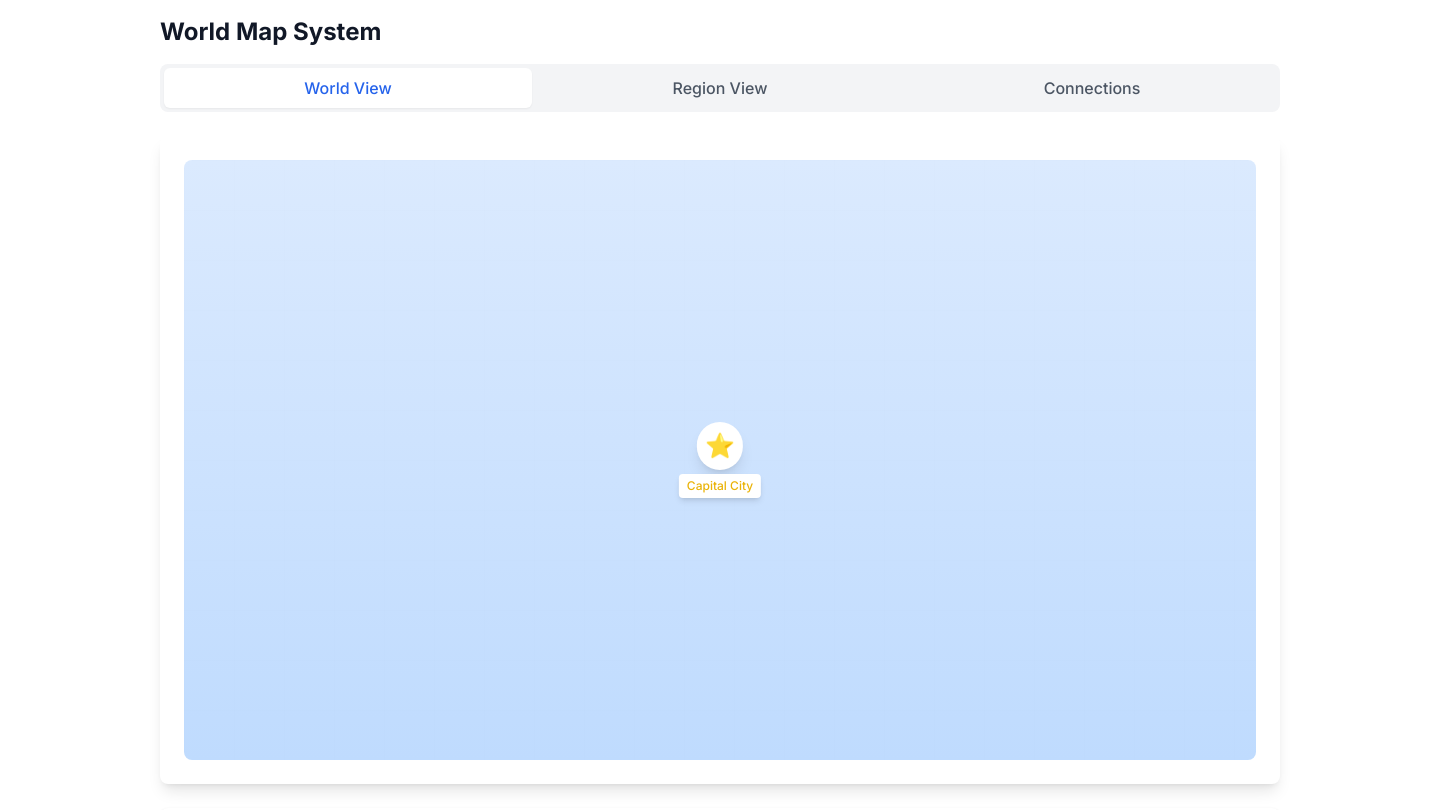
WorldMapDisplay › Region View › should switch between regions without error
Region Viewタブをクリック
Click the text "Region View" at (720, 88), box [673,78,767,98]
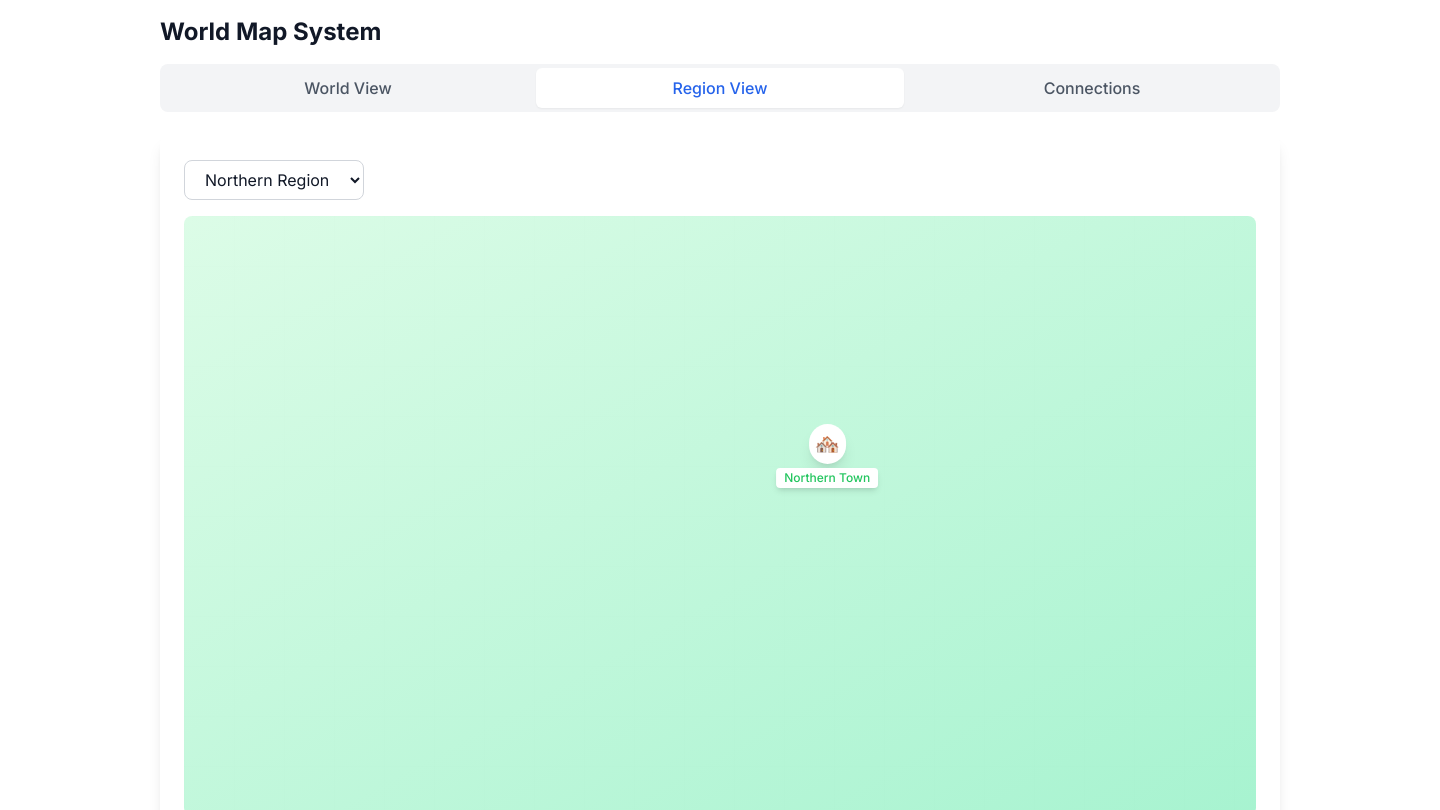
2番目のリージョンに切り替え
Select "Southern Region" in the dropdown at (274, 180), box [184,160,364,200]
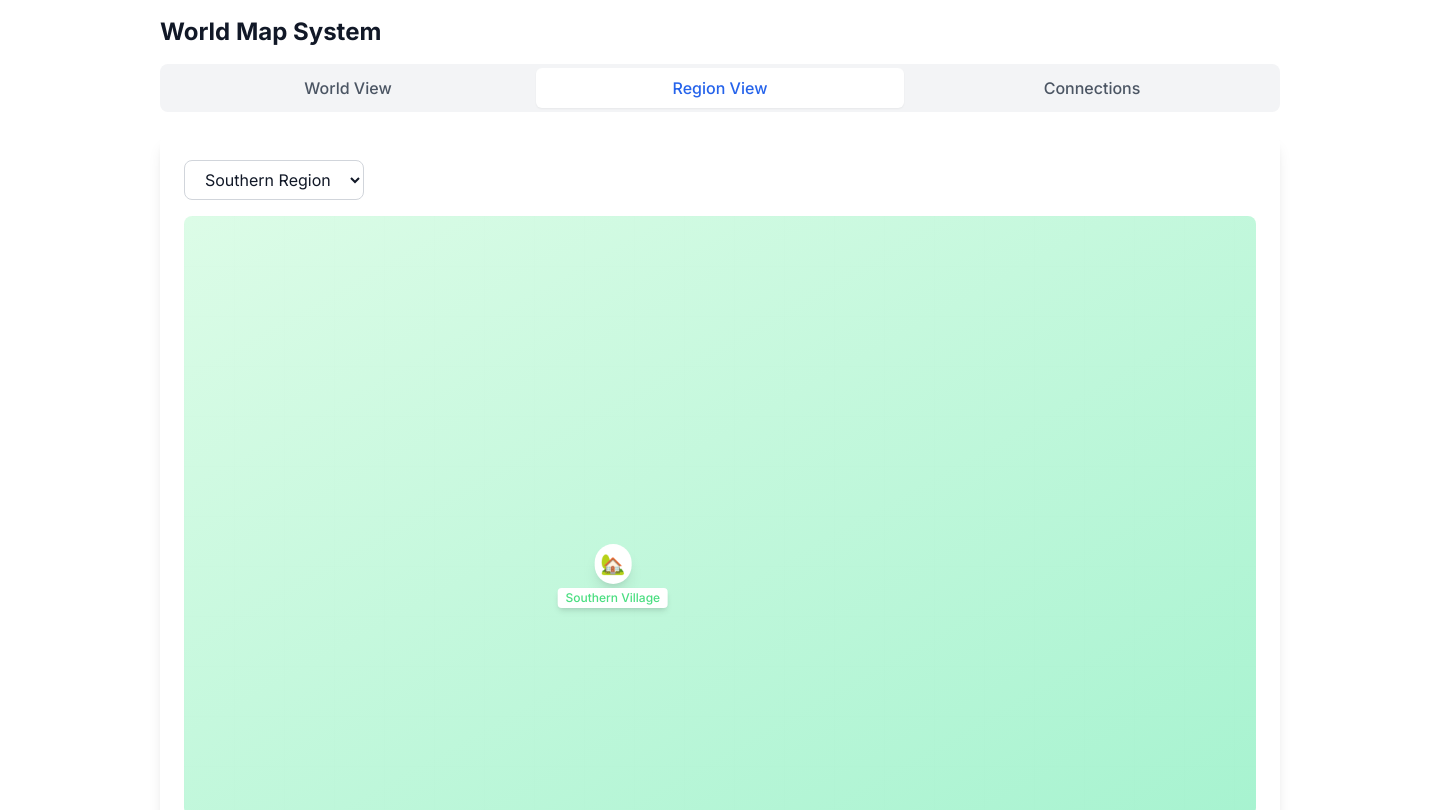
Result: the text "Southern Village" is shown at [558,588,668,608]
